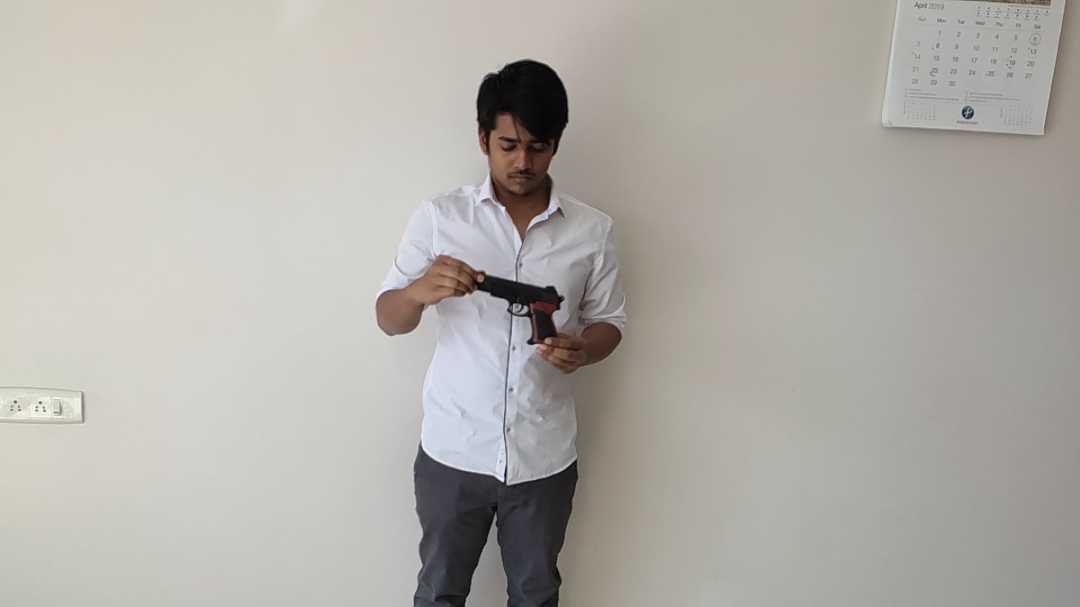gun: (477, 276, 565, 344)
